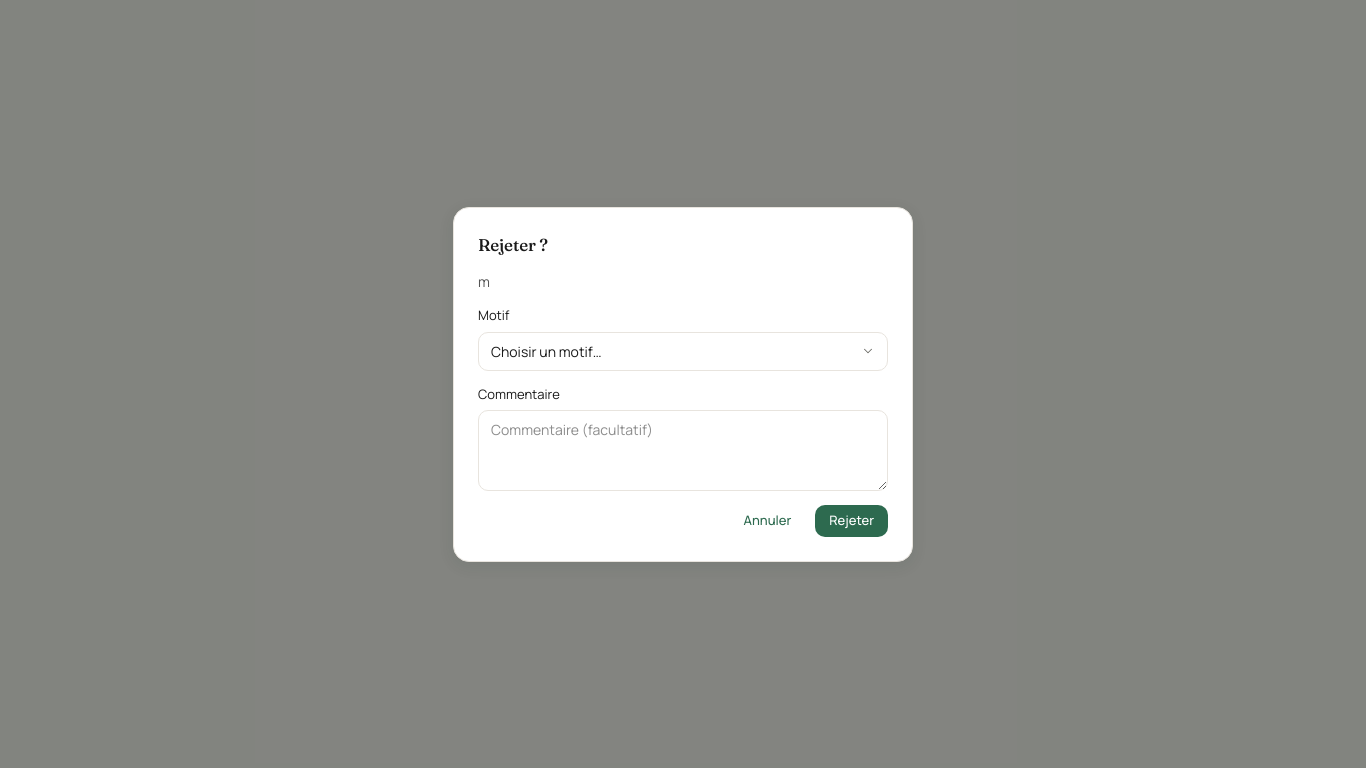
Scenario: ModaleDecision › affiche l'erreur renvoyée par le serveur
Select "Annonce en double" in the dropdown at {"x": 683, "y": 351}, box [478,332,888,370]
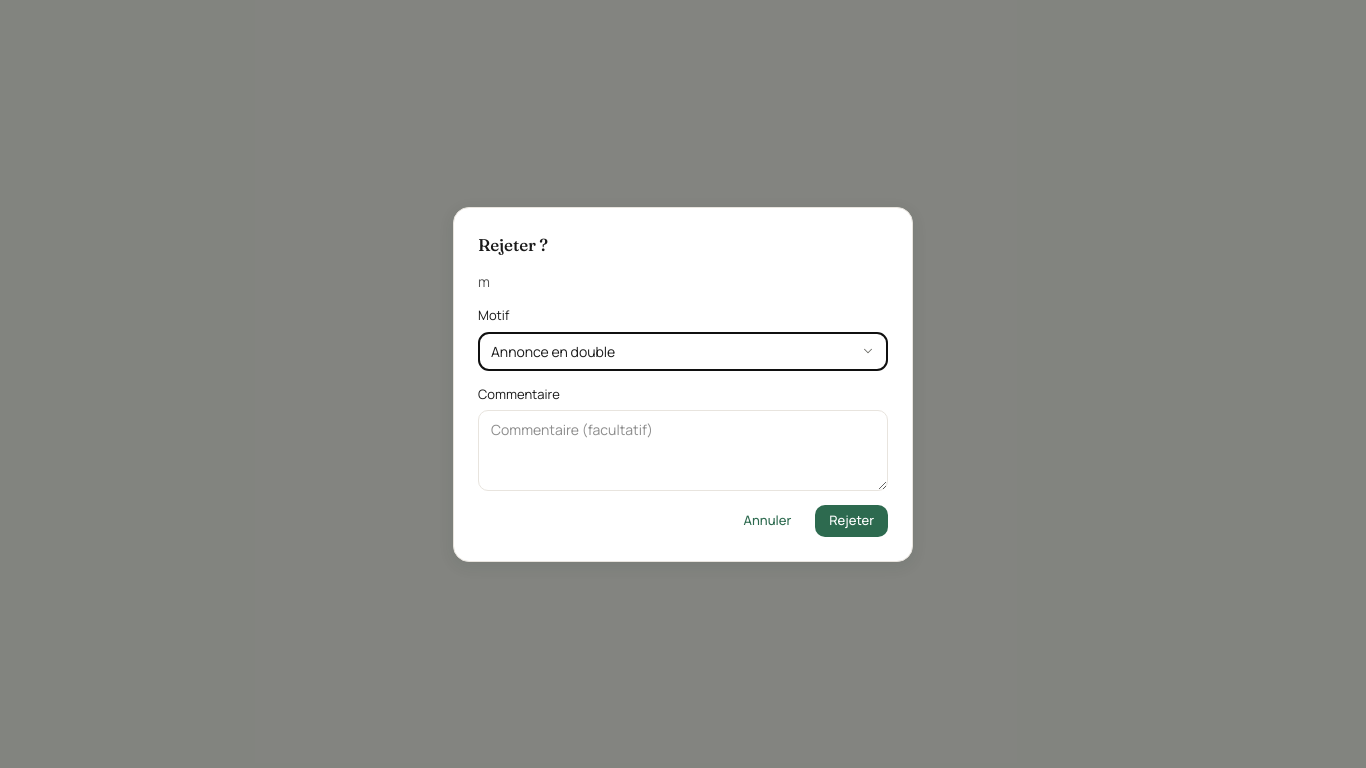
Click the button "Rejeter" at {"x": 852, "y": 521}, box [815,505,888,536]
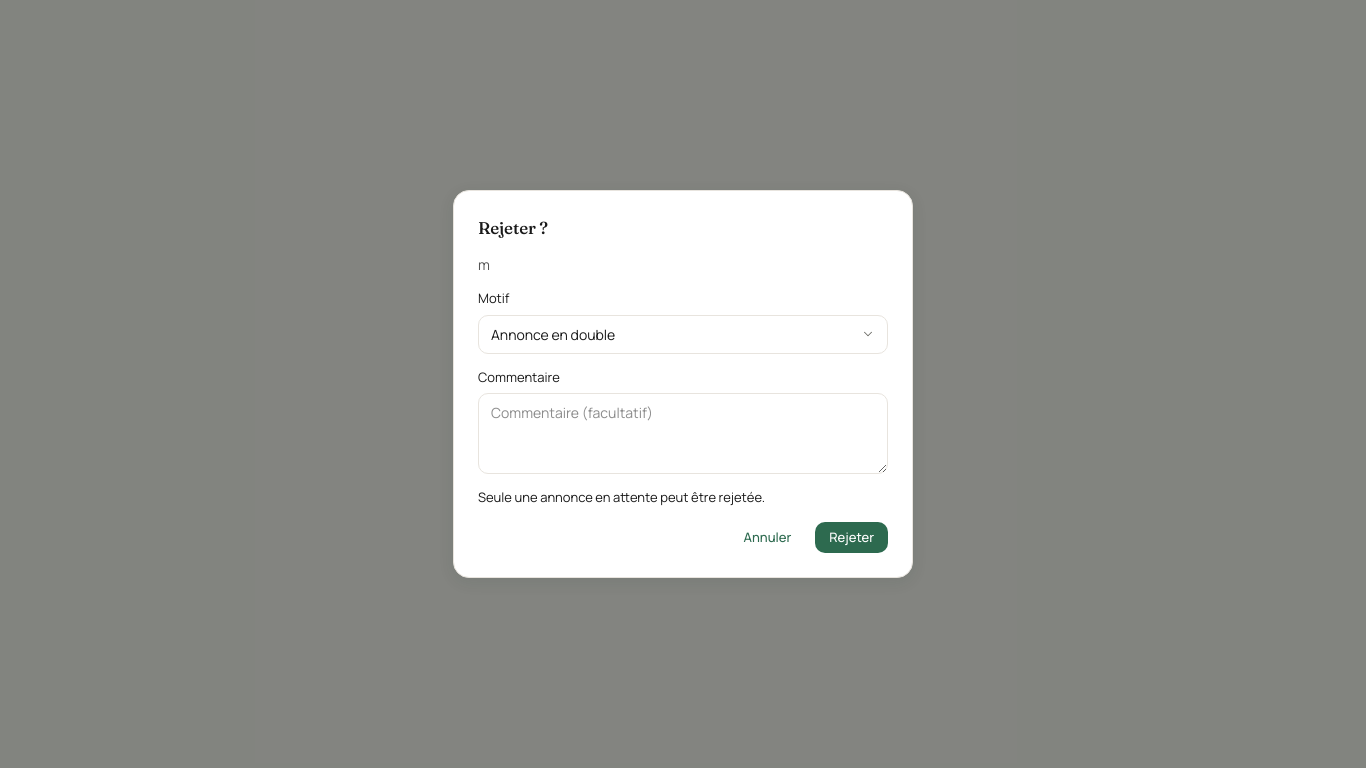
Expected: the message shows "Seule une annonce en attente", [478,488,765,506]
